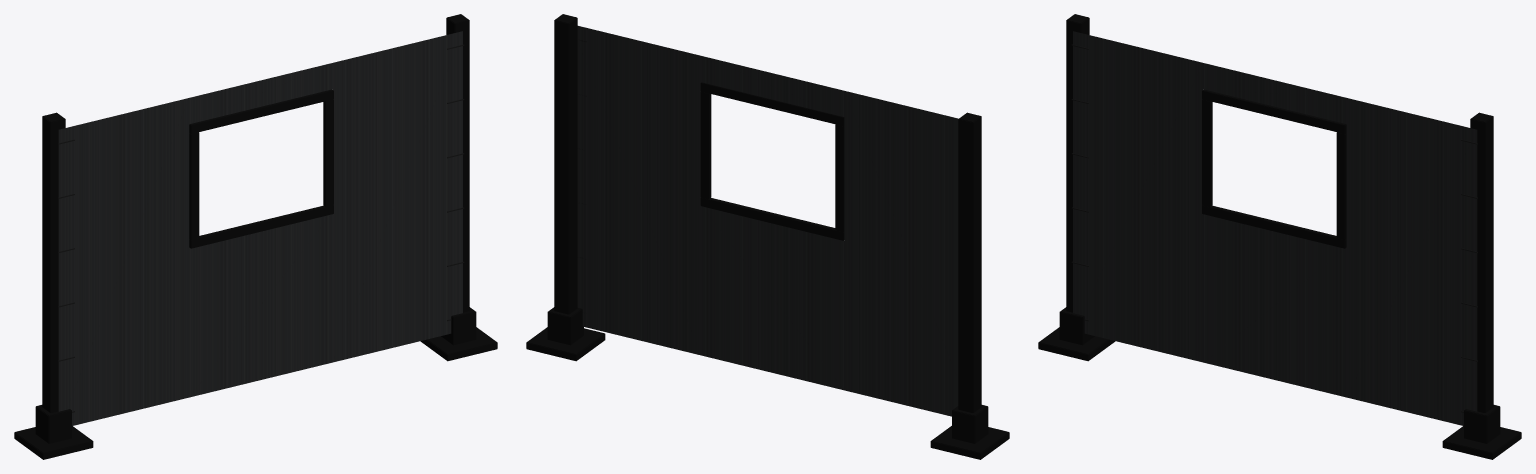
File: obj_mesh_wall_black_window.glb
3 views of the same model, side by side, from view 1: azimuth 30°, elevation 25°; view 2: azimuth 150°, elevation 25°; view 3: azimuth 330°, elevation 25° (orthographic).
Visible parts, largest first — view 1: mesh, mesh_wall_black_window_body; view 2: mesh, mesh_wall_black_window_body; view 3: mesh, mesh_wall_black_window_body.
Boxes of the visible parts, bbox=[...] form: mesh: bbox=[58, 31, 462, 425]; mesh_wall_black_window_body: bbox=[14, 14, 497, 459]; mesh: bbox=[577, 26, 958, 416]; mesh_wall_black_window_body: bbox=[526, 14, 1009, 459]; mesh: bbox=[1073, 31, 1477, 425]; mesh_wall_black_window_body: bbox=[1038, 14, 1521, 459].
Size of the model in its own units: 2.7 by 1.85 by 0.3.
3 materials, 2 textured.
